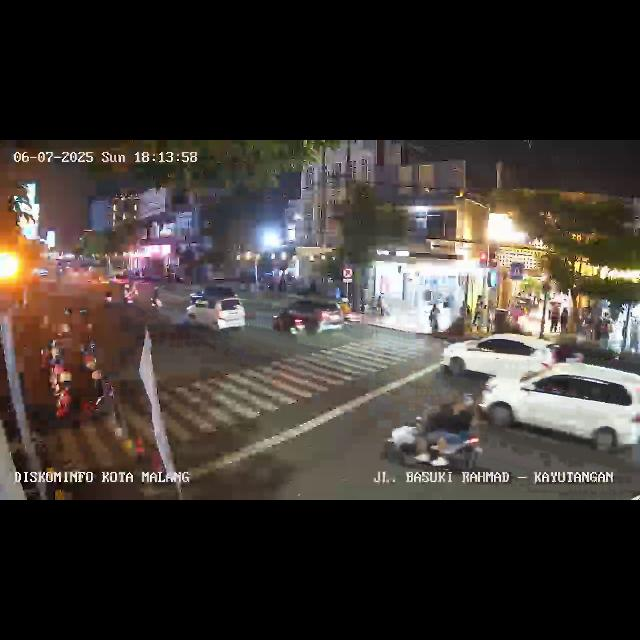car: (482, 362, 638, 456), (448, 332, 554, 366), (274, 296, 348, 336), (186, 294, 248, 336)
motorcycle: (386, 388, 484, 480), (272, 302, 302, 340), (77, 323, 101, 365), (148, 286, 164, 314), (123, 280, 137, 306), (102, 282, 114, 308)
person: (429, 302, 439, 336), (628, 318, 638, 352), (550, 302, 560, 334), (474, 298, 484, 328), (560, 306, 570, 334), (620, 321, 628, 349)
